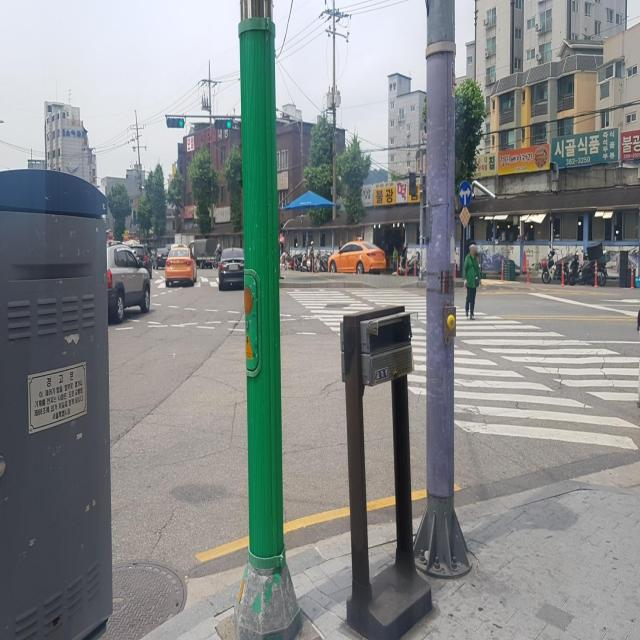횡단보도: (286, 285, 640, 452)
